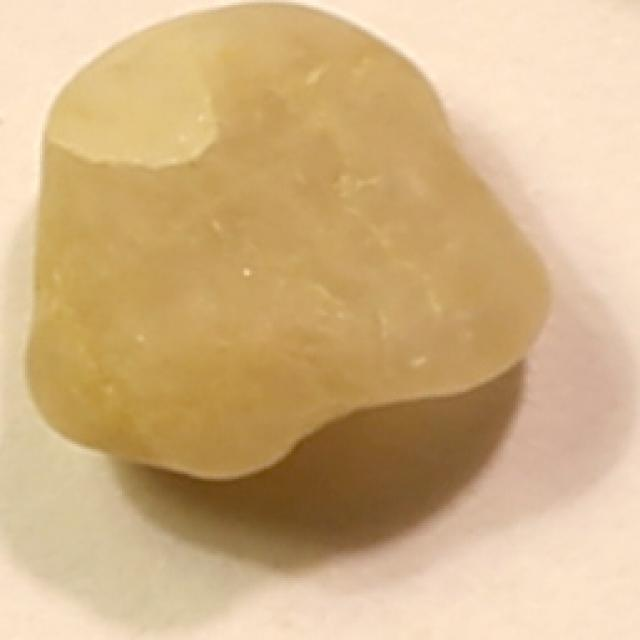stone: (0, 0, 553, 484)
